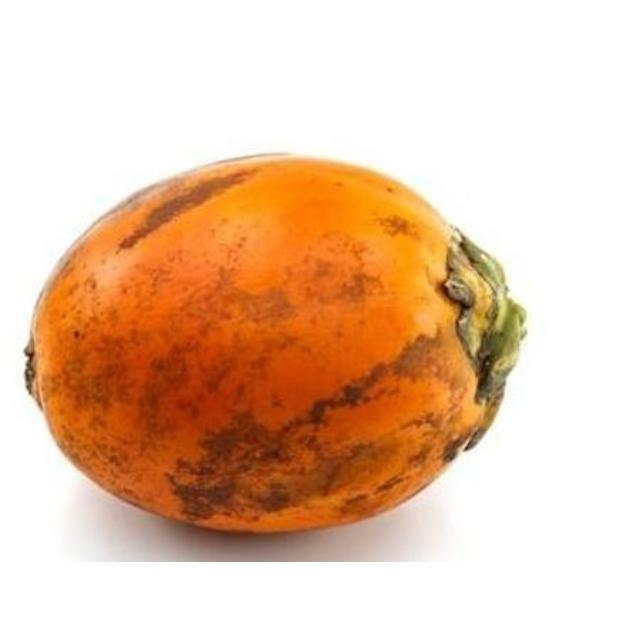good: (24, 153, 526, 537)
